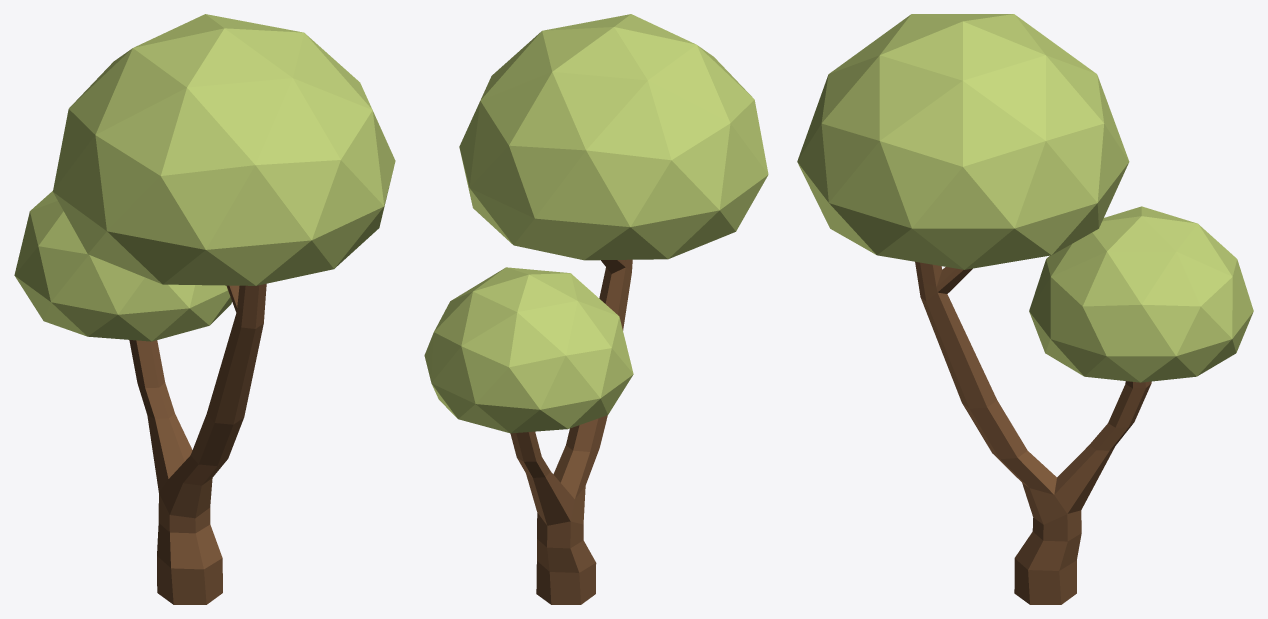
The model's file is tree1.glb.
3 renders of one model, left to right at view 1: azimuth 30°, elevation 25°; view 2: azimuth 150°, elevation 25°; view 3: azimuth 270°, elevation 25°, orthographic. The views are drawn at different scales.
Visible parts, largest first — view 1: Tree1_Icosphere.002; view 2: Tree1_Icosphere.002; view 3: Tree1_Icosphere.002.
Boxes of the visible parts, <box> form: Tree1_Icosphere.002: <box>14,14,395,604</box>; Tree1_Icosphere.002: <box>424,14,768,604</box>; Tree1_Icosphere.002: <box>797,14,1253,604</box>.
Size of the model in its own units: 2.07 by 4.1 by 2.99.
